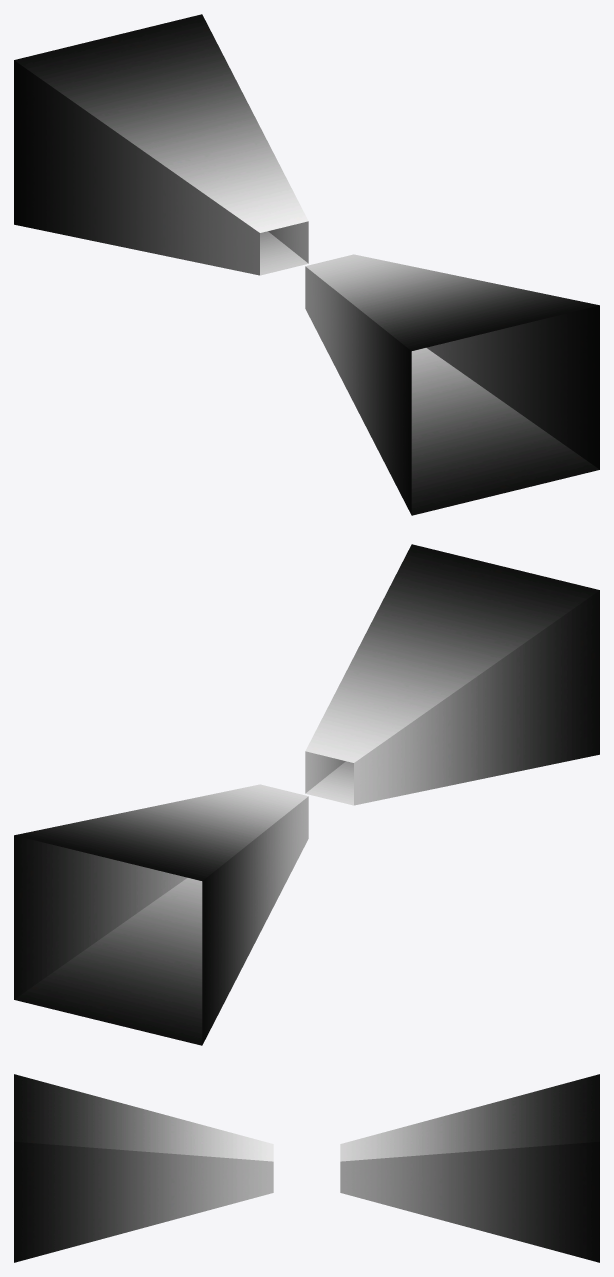
File: guangxiao01.FBX
The picture shows the model from 3 angles, top to bottom: view 1: azimuth 30°, elevation 25°; view 2: azimuth 150°, elevation 25°; view 3: azimuth 270°, elevation 25°; orthographic projection. The views are drawn at different scales.
Parts seen in each view (by area): view 1: guangxiao1; view 2: guangxiao1; view 3: guangxiao1.
Boxes of the visible parts, box(x1,y1,x2,y2) form: guangxiao1: box(14, 14, 599, 515); guangxiao1: box(14, 544, 599, 1045); guangxiao1: box(14, 1074, 599, 1262).
Size of the model in its own units: 319 by 266 by 1166.
1 material, 1 textured.
